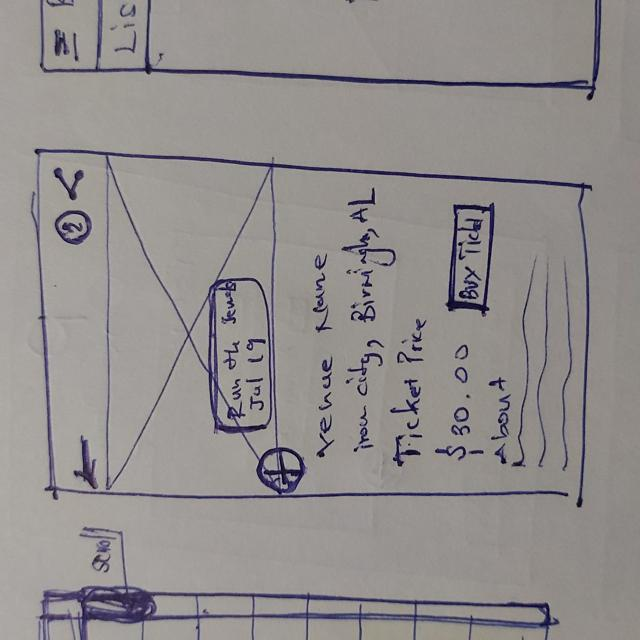ActionButton: (53, 207, 94, 246), (50, 165, 89, 201)
AppBar: (34, 148, 110, 495)
BackButton: (74, 436, 101, 489)
Button: (446, 200, 497, 311)
CardView: (207, 277, 275, 434)
Fab: (257, 448, 305, 493)
Icon: (53, 208, 95, 244), (51, 165, 88, 201)
Image: (106, 154, 281, 499)
MainLayout: (28, 144, 593, 506)
MultiLineText: (518, 246, 574, 475)
TextView: (345, 187, 381, 456), (308, 251, 338, 465), (440, 340, 481, 462), (394, 317, 424, 465), (222, 283, 246, 419), (487, 377, 512, 468), (246, 338, 267, 410)
